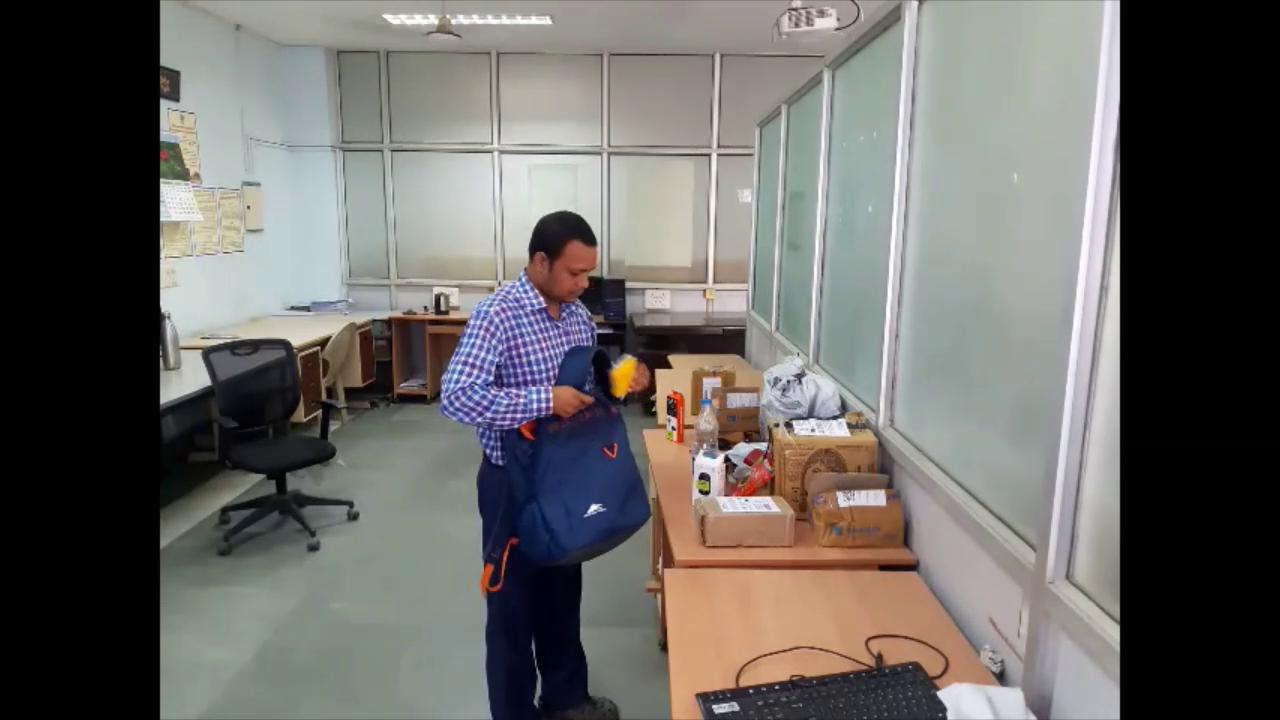shoplifting: (436, 208, 655, 720)
